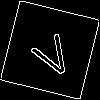V: (25, 25, 77, 81)
